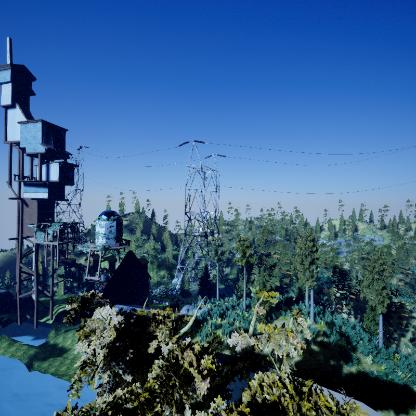tower: (174, 139, 229, 288)
